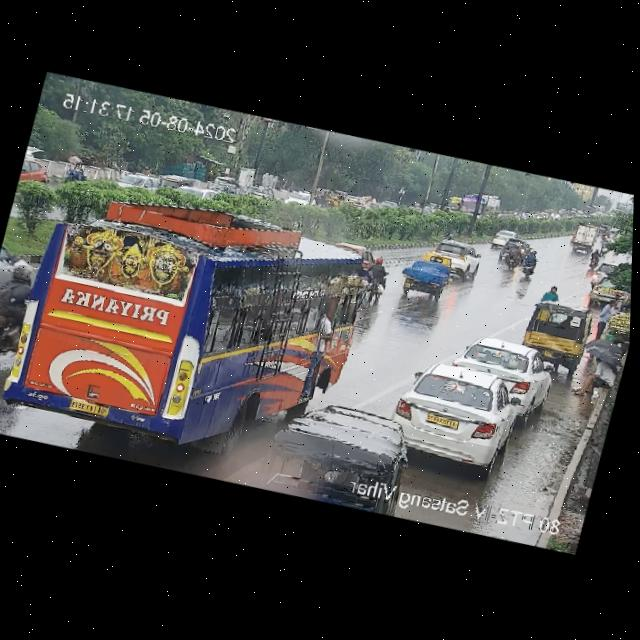bus: (0, 158, 387, 442)
car: (255, 389, 410, 516), (385, 354, 525, 473), (447, 333, 552, 415), (517, 297, 593, 372), (401, 246, 456, 303), (448, 238, 483, 279), (19, 157, 53, 184), (588, 259, 616, 291), (592, 279, 626, 305), (488, 229, 510, 251)
motorcycle: (0, 244, 47, 366), (352, 252, 392, 300), (516, 249, 543, 281), (63, 153, 89, 182), (499, 241, 521, 272), (498, 240, 517, 264), (587, 248, 601, 269), (598, 238, 609, 253)
person: (574, 331, 630, 400), (593, 297, 616, 339), (538, 282, 559, 303)
truck: (572, 220, 599, 253)
